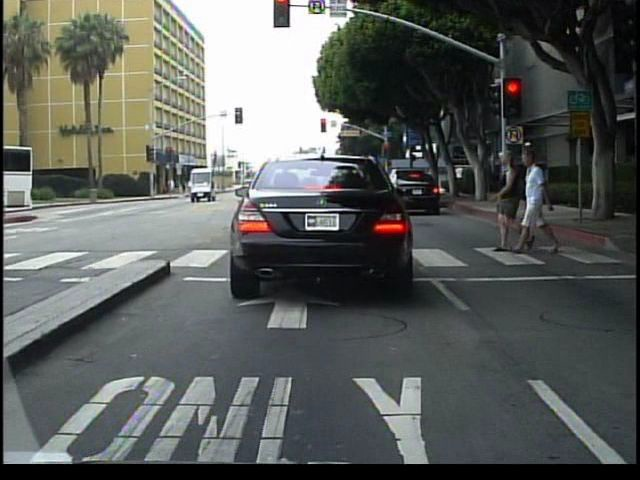person: (523, 141, 564, 260), (492, 150, 524, 258)
